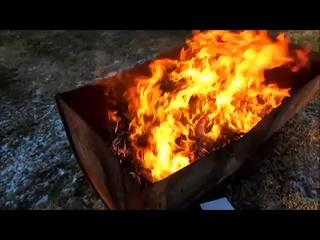Fire: (202, 34, 271, 113)
